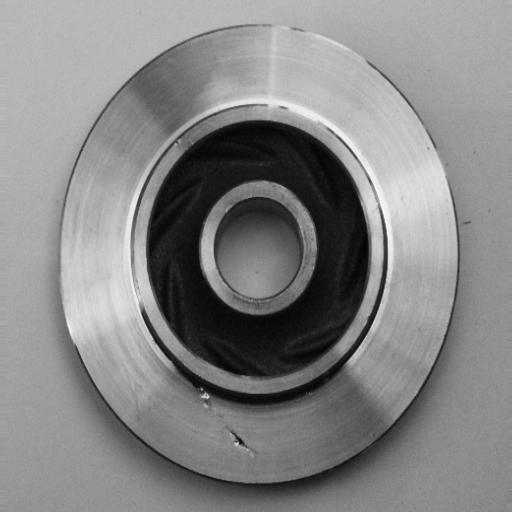crack: (179, 363, 266, 461)
scratch: (259, 90, 347, 135)
unpolished_casting: (59, 21, 459, 487)
